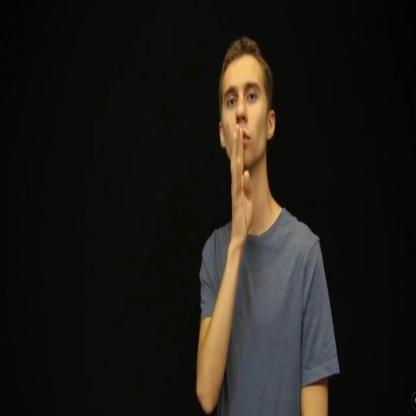Talk: (208, 11, 295, 277)
